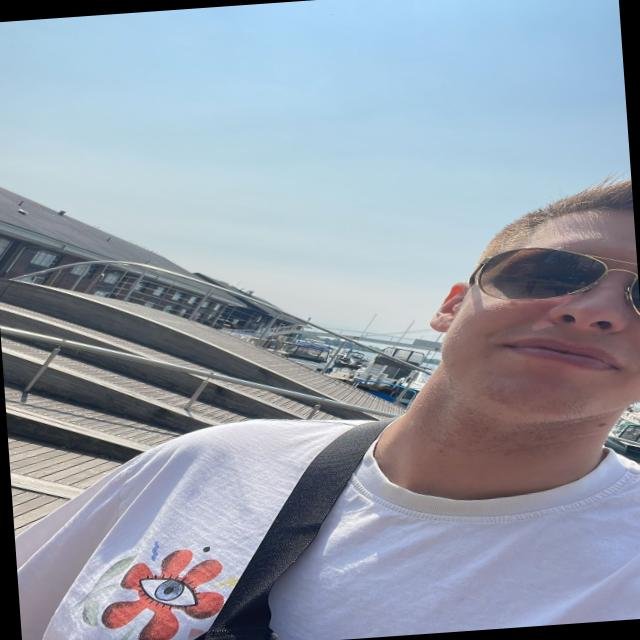JeremiasDiaz: (425, 182, 640, 427)
